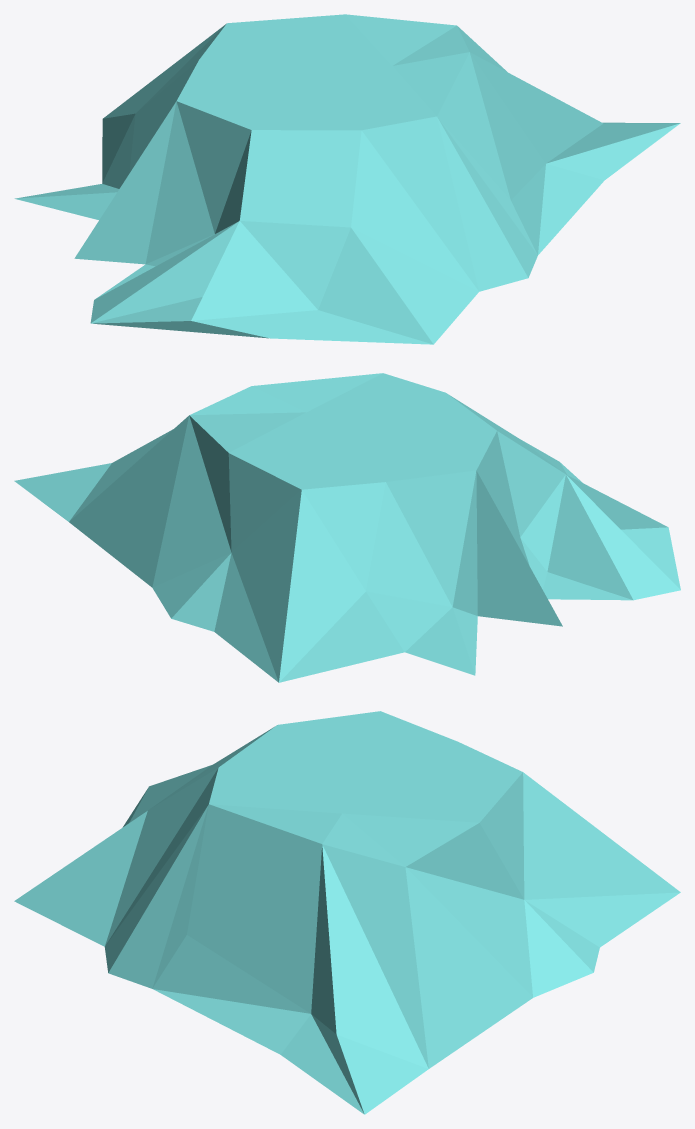
The model's file is flat iceberg.fbx.
The picture shows the model from 3 angles, top to bottom: view 1: azimuth 30°, elevation 25°; view 2: azimuth 150°, elevation 25°; view 3: azimuth 270°, elevation 25°; orthographic projection. The views are drawn at different scales.
Parts seen in each view (by area): view 1: Cube; view 2: Cube; view 3: Cube.
Part boxes in pixels (x1,y1,x2,y2): Cube: (14, 14, 680, 344); Cube: (14, 373, 680, 682); Cube: (14, 711, 680, 1114).
Size of the model in its own units: 3748 by 785 by 3146.
